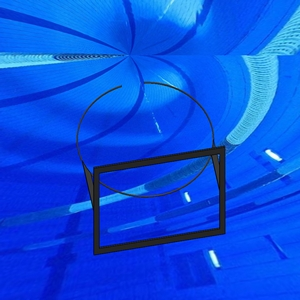circle: (75, 80, 227, 256)
